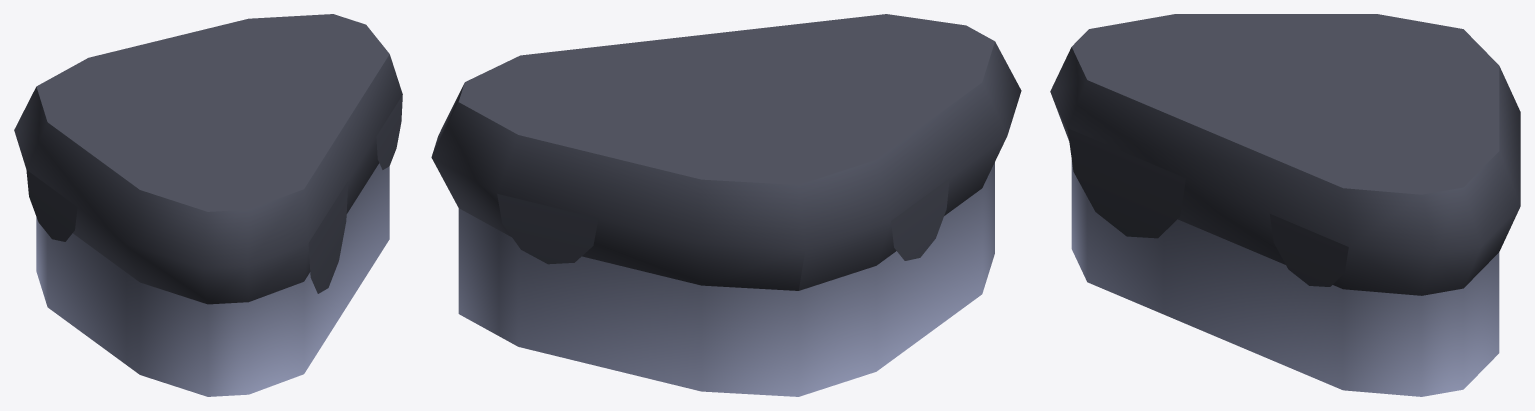
Rendered from block-snow-corner-overhang-low.glb.
3 renders of one model, left to right at view 1: azimuth 30°, elevation 25°; view 2: azimuth 150°, elevation 25°; view 3: azimuth 270°, elevation 25°, orthographic. The views are drawn at different scales.
Parts seen in each view (by area): view 1: block-snow-corner-overhang-low; view 2: block-snow-corner-overhang-low; view 3: block-snow-corner-overhang-low.
Part boxes in pixels (x1,y1,x2,y2): block-snow-corner-overhang-low: [14, 14, 402, 396]; block-snow-corner-overhang-low: [431, 14, 1021, 396]; block-snow-corner-overhang-low: [1050, 14, 1520, 396].
Bounding box in the file's own units: 1.05 × 0.5 × 1.05.
